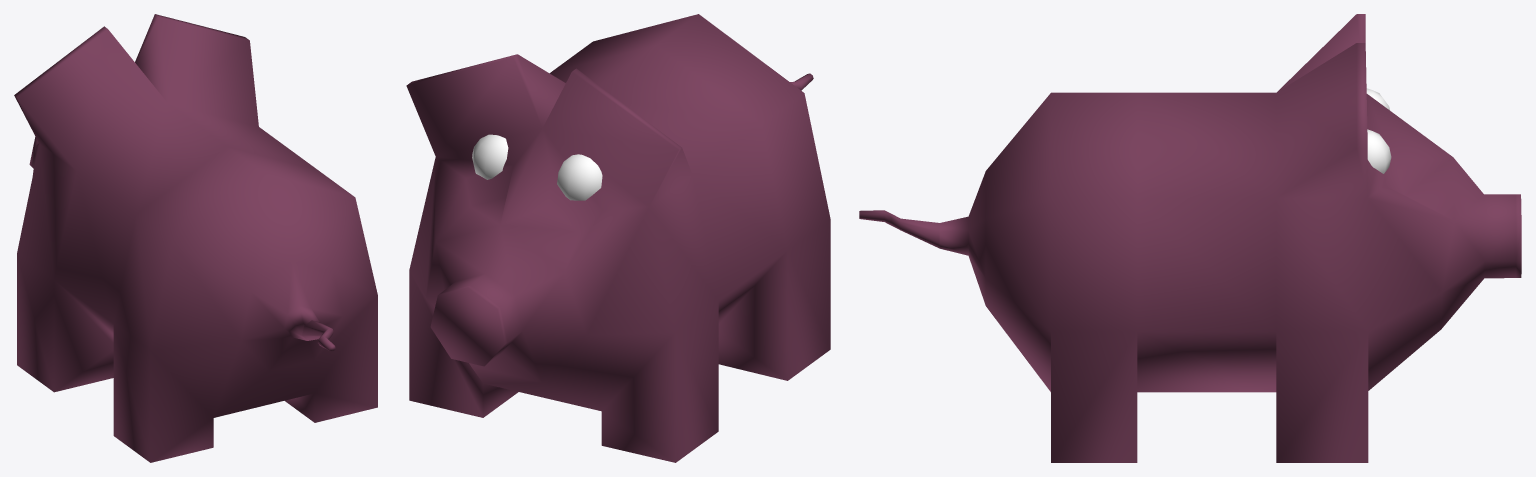
File: pig.glb
3 renders of one model, left to right at view 1: azimuth 30°, elevation 25°; view 2: azimuth 150°, elevation 25°; view 3: azimuth 270°, elevation 25°, orthographic. The views are drawn at different scales.
Parts seen in each view (by area): view 1: Cylinder; view 2: Cylinder, Sphere.000, Sphere.001; view 3: Cylinder, Sphere.001.
Part boxes in pixels (<box>): Cylinder: <box>14,14,377,462</box>; Cylinder: <box>406,14,830,462</box>; Sphere.000: <box>557,154,602,200</box>; Sphere.001: <box>472,134,508,179</box>; Cylinder: <box>859,14,1521,462</box>; Sphere.001: <box>1367,129,1391,173</box>.
Bounding box in the file's own units: 2 × 2.59 × 4.21.
